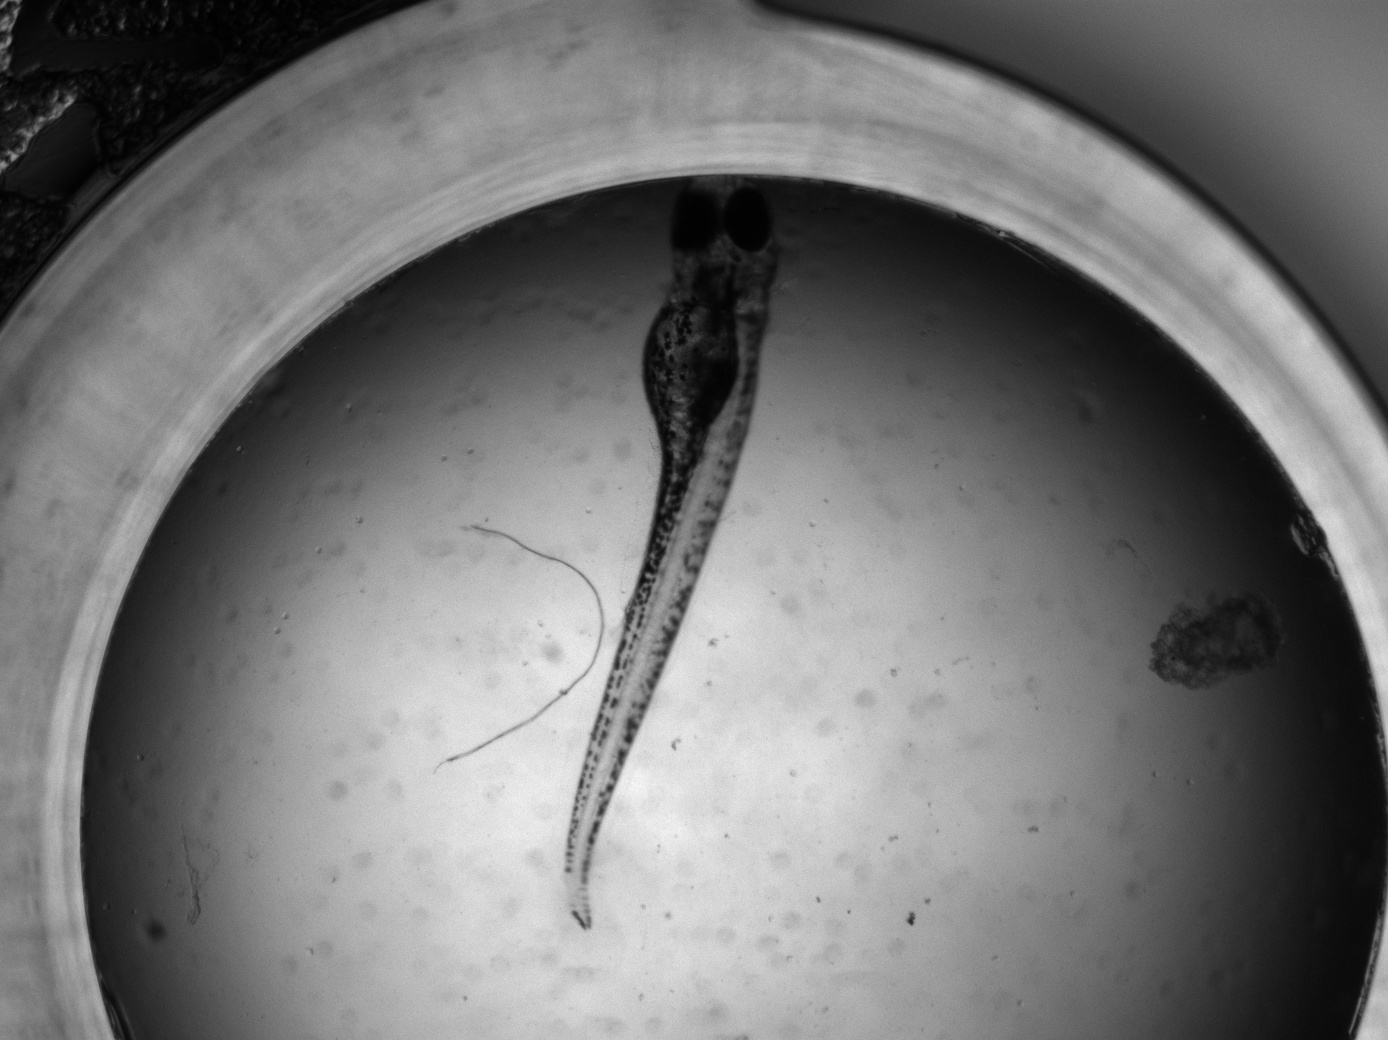embryo: (560, 172, 784, 931)
eye: (722, 186, 774, 255), (671, 190, 721, 255)
yolksac: (643, 302, 740, 422)
